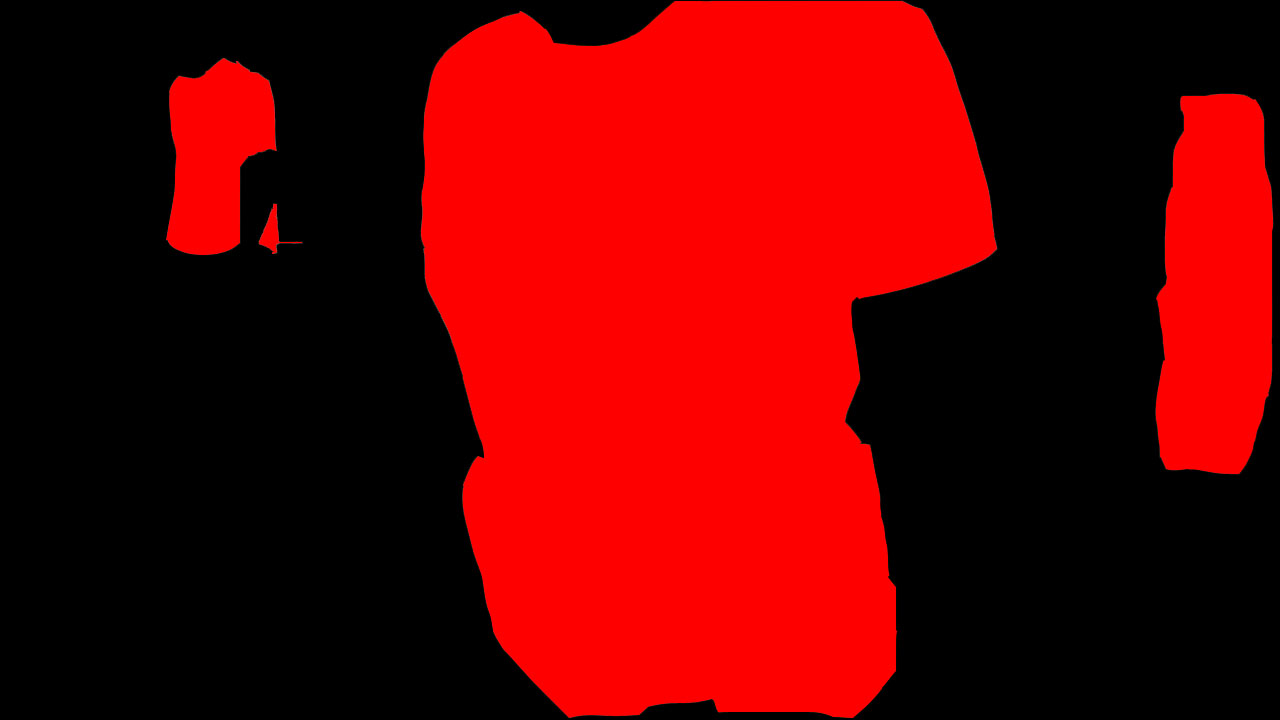uniforme_ifmt: (418, 1, 1002, 718), (1152, 66, 1280, 477), (158, 50, 282, 254)
